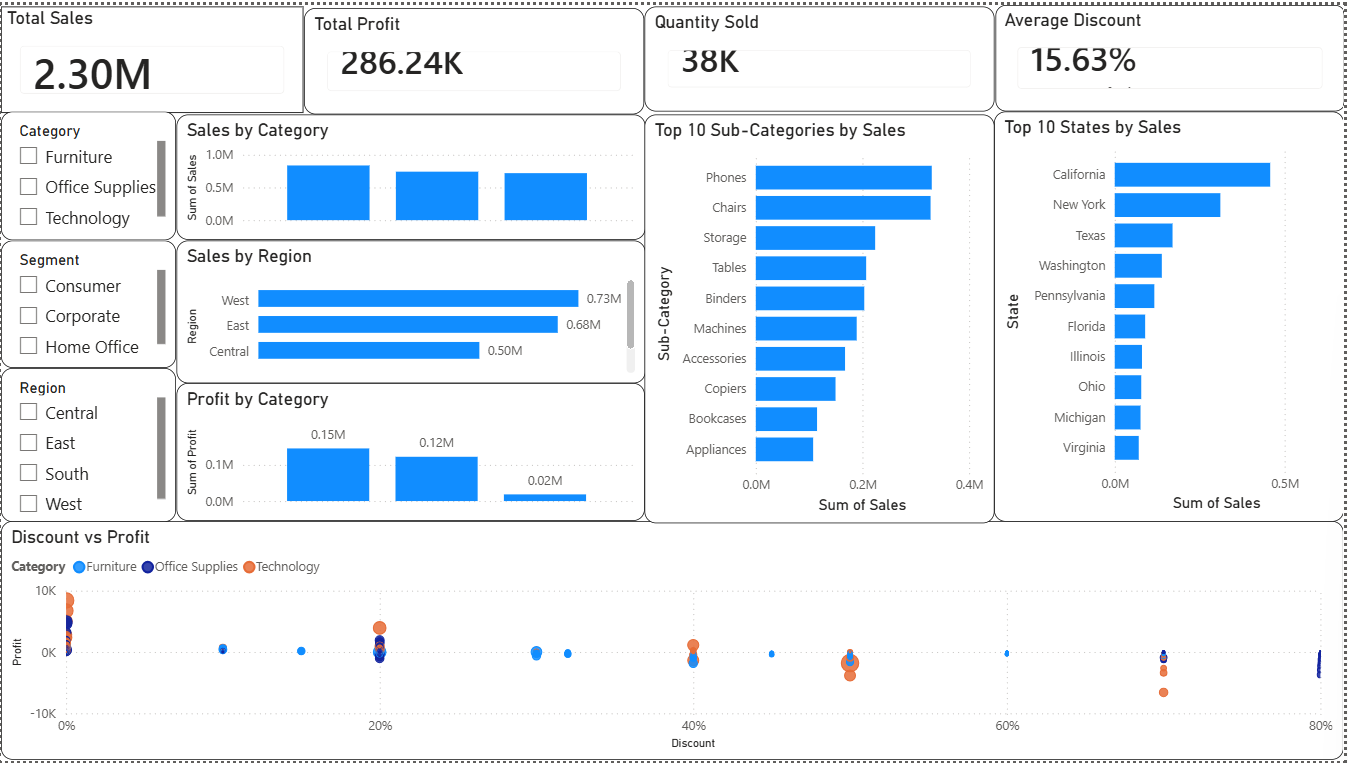

Layout of this report page (visuals, bound fields, positions):
{"tool":"powerbi","page":{"name":"Page 1","canvas":[1280,720],"ordinal":0},"visuals":[{"type":"cardVisual","title":"Total Sales","fields":{"Data":["Sum(Cleaned_Superstore.Sales)"]},"box":[0,1.4,288.2,101.6],"z":0},{"type":"cardVisual","title":"Average Discount","fields":{"Data":["Avg(Cleaned_Superstore.Discount)"]},"box":[946.9,0,333.5,101.6],"z":1000},{"type":"cardVisual","title":"Total Profit","fields":{"Data":["Sum(Cleaned_Superstore.Profit)"]},"box":[288.2,2.7,325.2,100.2],"z":2000},{"type":"cardVisual","title":"Quantity Sold","fields":{"Data":["Sum(Cleaned_Superstore.Quantity)"]},"box":[613.4,1.4,333.5,100.2],"z":3000},{"type":"clusteredColumnChart","title":"Sales by Category","fields":{"Category":["Cleaned_Superstore.Category"],"Y":["Sum(Cleaned_Superstore.Sales)"]},"box":[166.6,104.5,446.7,119.6],"z":4000},{"type":"clusteredBarChart","title":"Sales by Region","fields":{"Category":["Cleaned_Superstore.Region"],"Y":["Sum(Cleaned_Superstore.Sales)"]},"box":[166.6,224.1,446.7,136.3],"z":5000},{"type":"clusteredColumnChart","title":"Profit by Category","fields":{"Category":["Cleaned_Superstore.Category"],"Y":["Sum(Cleaned_Superstore.Profit)"]},"box":[166.6,360.4,446.7,131.7],"z":6000},{"type":"clusteredBarChart","title":"Top 10 States by Sales","fields":{"Category":["Cleaned_Superstore.State"],"Y":["Sum(Cleaned_Superstore.Sales)"]},"box":[946.4,101.5,333.1,390.7],"z":7000},{"type":"scatterChart","title":"Discount vs Profit","fields":{"Y":["Cleaned_Superstore.Profit"],"Series":["Cleaned_Superstore.Category"],"Size":["Sum(Cleaned_Superstore.Sales)"],"X":["Cleaned_Superstore.Discount"]},"box":[0,492.1,1279.5,227.1],"z":8000},{"type":"slicer","fields":{"Values":["Cleaned_Superstore.Region"]},"box":[0,345.2,166.6,146.9],"z":9000},{"type":"slicer","fields":{"Values":["Cleaned_Superstore.Category"]},"box":[0,101.5,166.6,122.7],"z":10000},{"type":"slicer","fields":{"Values":["Cleaned_Superstore.Segment"]},"box":[0,224.1,166.6,121.1],"z":11000},{"type":"clusteredBarChart","title":"Top 10 Sub-Categories by Sales","fields":{"Category":["Cleaned_Superstore.Sub-Category"],"Y":["Sum(Cleaned_Superstore.Sales)"]},"box":[613.3,104.5,333.1,389.2],"z":12000}]}

Visuals, with their boxes in screenshot pixels (x1, y1, x2, y2), scaled from the page's 1280x720 canvas onto the 1348x763 screenshot:
"Total Sales" cardVisual: locate(0, 1, 304, 109)
"Average Discount" cardVisual: locate(997, 0, 1347, 108)
"Total Profit" cardVisual: locate(304, 3, 646, 109)
"Quantity Sold" cardVisual: locate(646, 1, 997, 108)
"Sales by Category" clusteredColumnChart: locate(175, 111, 646, 237)
"Sales by Region" clusteredBarChart: locate(175, 237, 646, 382)
"Profit by Category" clusteredColumnChart: locate(175, 382, 646, 521)
"Top 10 States by Sales" clusteredBarChart: locate(997, 108, 1347, 522)
"Discount vs Profit" scatterChart: locate(0, 521, 1347, 762)
slicer - Cleaned_Superstore.Region: locate(0, 366, 175, 521)
slicer - Cleaned_Superstore.Category: locate(0, 108, 175, 238)
slicer - Cleaned_Superstore.Segment: locate(0, 237, 175, 366)
"Top 10 Sub-Categories by Sales" clusteredBarChart: locate(646, 111, 997, 523)
